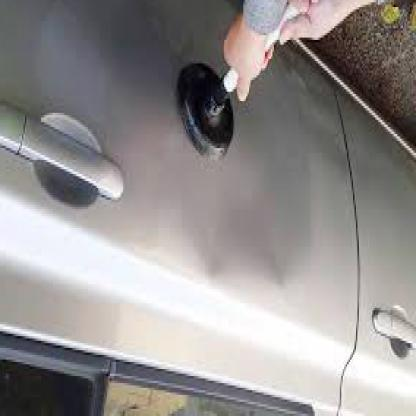dent: (188, 201, 298, 286)
